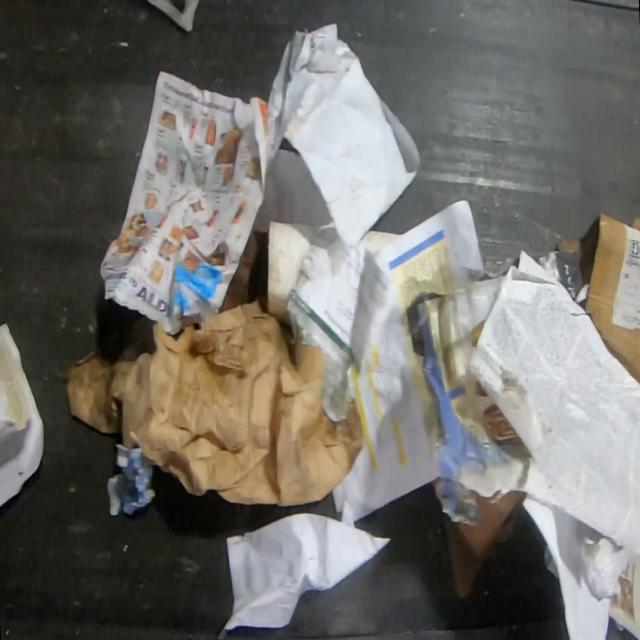cardboard: (585, 210, 639, 387), (446, 490, 526, 599), (264, 221, 317, 330)
